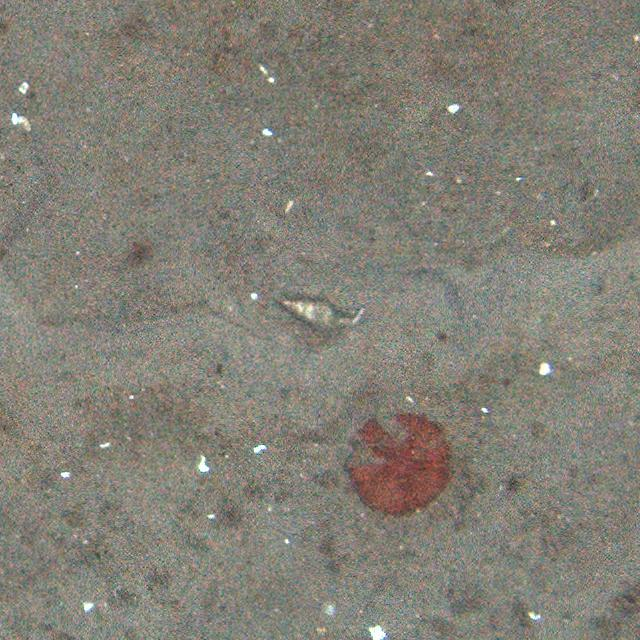whelk: (281, 287, 368, 334)
